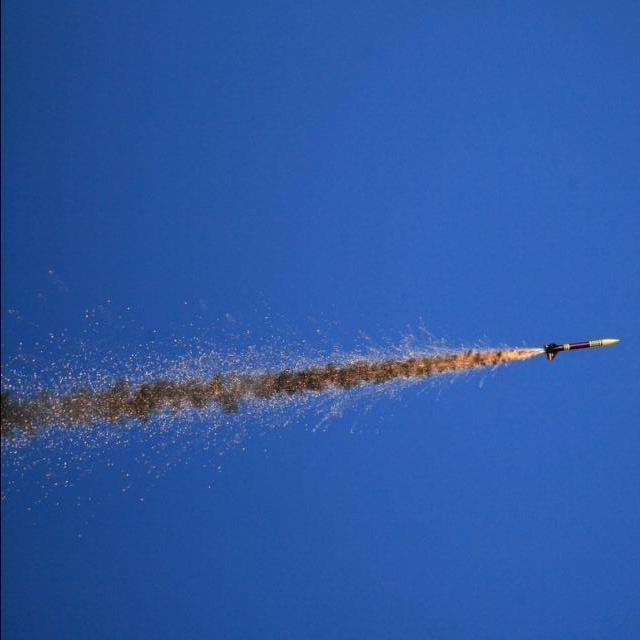missile: (539, 330, 623, 367)
